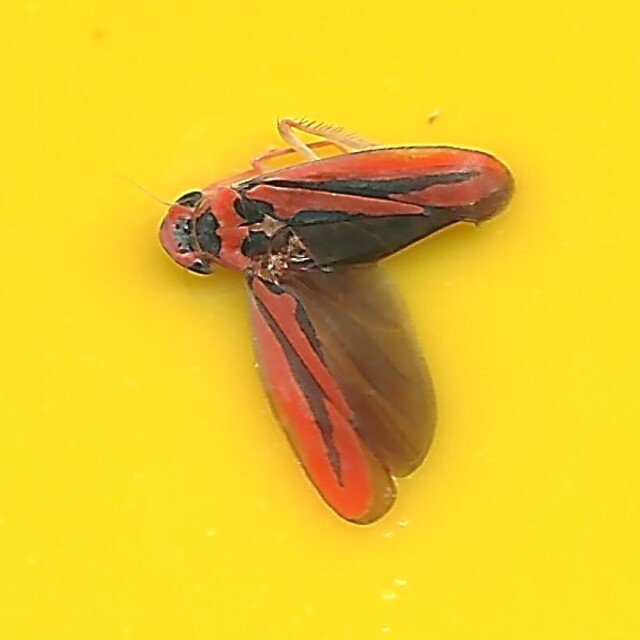Hemiptera: (118, 113, 522, 527)
